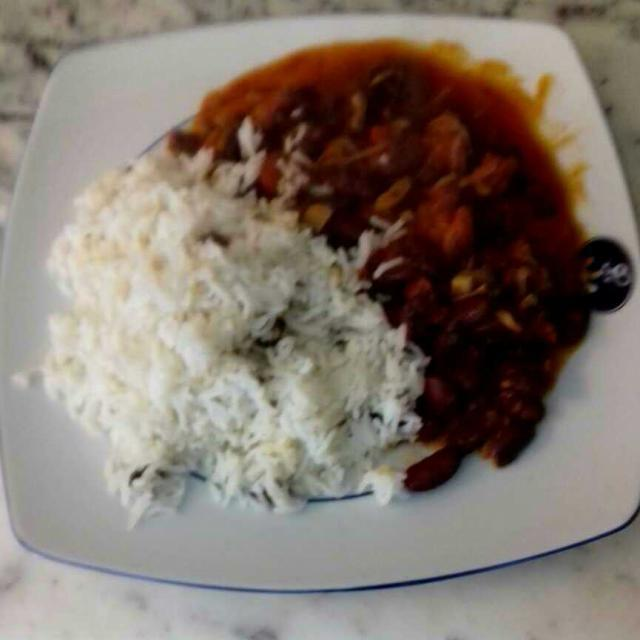rice: (52, 109, 436, 543)
tomato-sauce: (214, 56, 577, 499)
